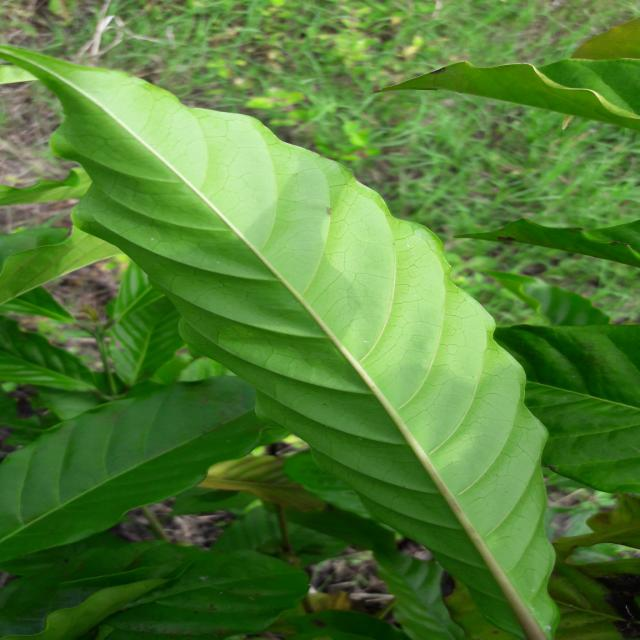Sanas: (0, 46, 614, 640)
